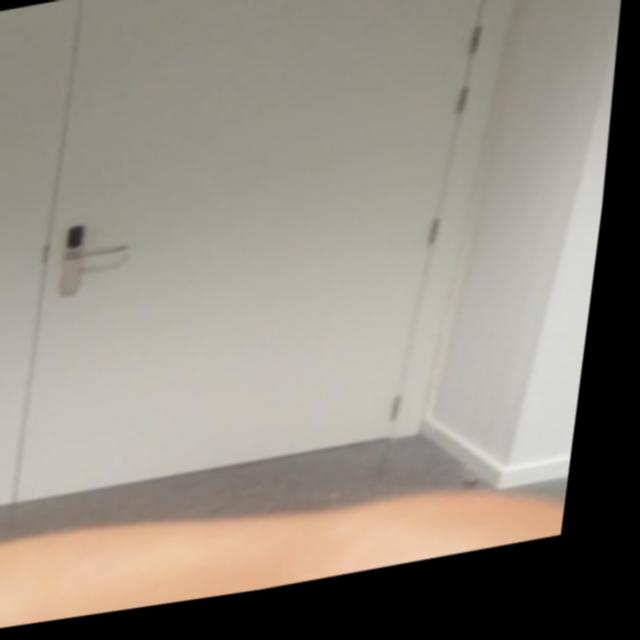door_handle: (66, 239, 142, 271)
